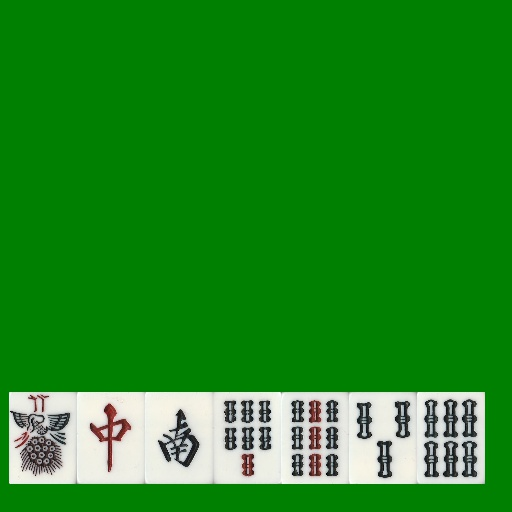1s: (9, 392, 77, 484)
3s: (349, 392, 417, 484)
6s: (417, 392, 485, 484)
7s: (213, 392, 281, 484)
9s: (281, 392, 349, 484)
south: (145, 392, 213, 484)
tyun: (77, 392, 145, 484)
